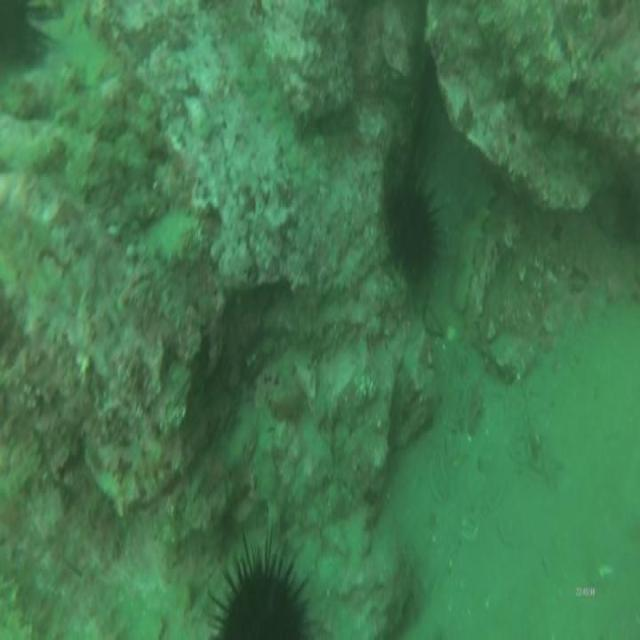echinus: (198, 524, 318, 640), (385, 168, 445, 292), (3, 0, 55, 79)
holothurian: (449, 168, 502, 314)
